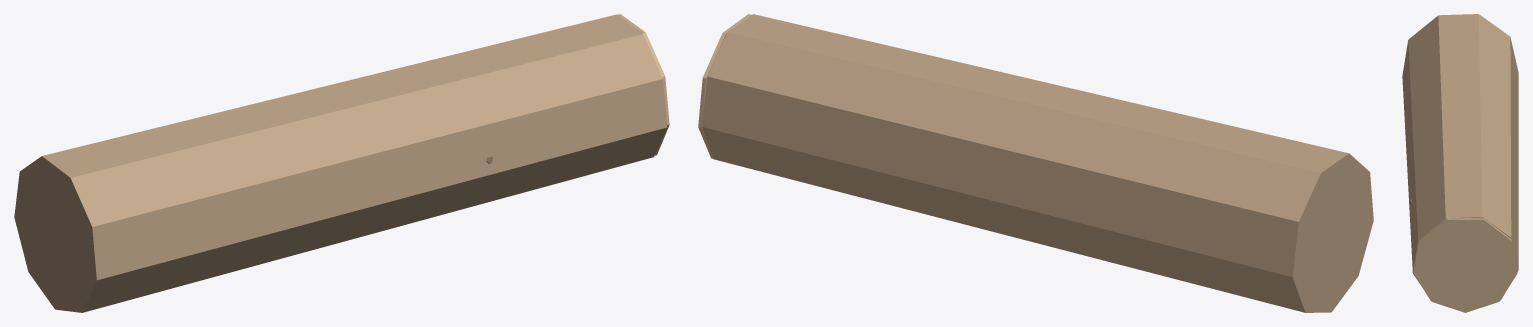
Rendered from log_fallen_large.glb.
3 renders of one model, left to right at view 1: azimuth 30°, elevation 25°; view 2: azimuth 150°, elevation 25°; view 3: azimuth 270°, elevation 25°, orthographic. The views are drawn at different scales.
Parts seen in each view (by area): view 1: log_fallen_large_bark, log_fallen_large_bark_light; view 2: log_fallen_large_bark, log_fallen_large_bark_light; view 3: log_fallen_large_bark, log_fallen_large_bark_light.
Boxes of the visible parts, x1,y1,x2,y2 form: log_fallen_large_bark: (14,14,667,312); log_fallen_large_bark_light: (618,14,669,155); log_fallen_large_bark: (701,14,1373,312); log_fallen_large_bark_light: (698,14,751,158); log_fallen_large_bark: (1402,14,1518,299); log_fallen_large_bark_light: (1413,218,1517,312).
Size of the model in its own units: 3.02 by 0.721 by 0.7288.
